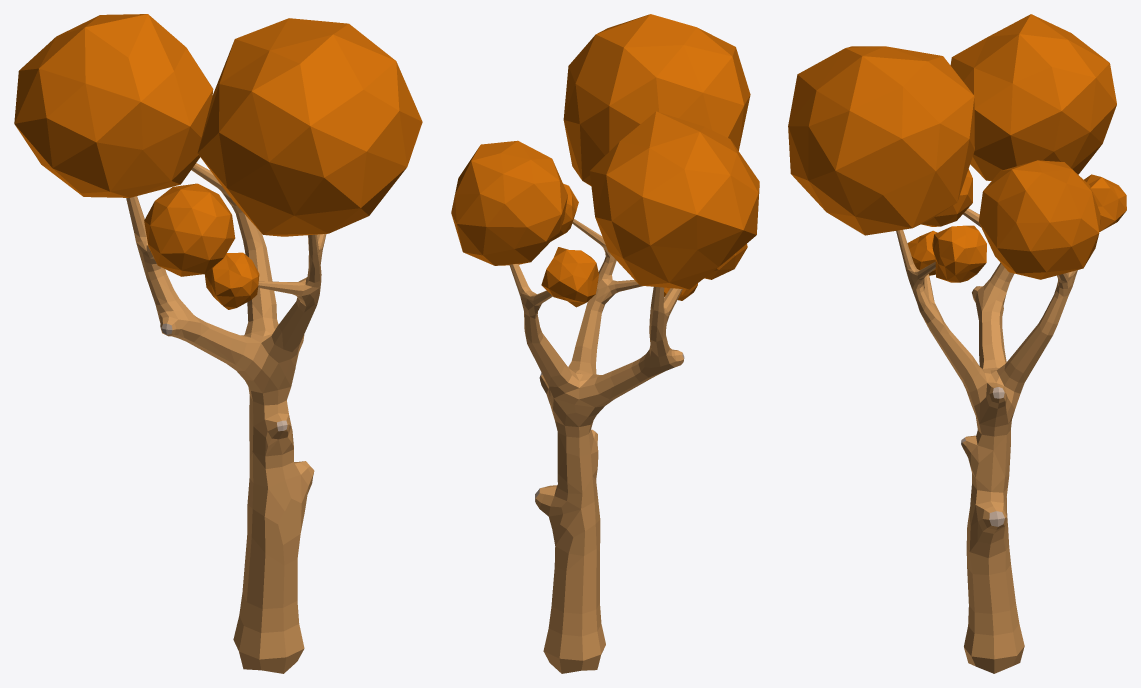
The model's file is Tree01.fbx.
3 views of the same model, side by side, from view 1: azimuth 30°, elevation 25°; view 2: azimuth 150°, elevation 25°; view 3: azimuth 270°, elevation 25° (orthographic). The views are drawn at different scales.
Visible parts, largest first — view 1: Plane; view 2: Plane; view 3: Plane.
Boxes of the visible parts, x1,y1,x2,y2 form: Plane: (14, 14, 422, 673); Plane: (451, 14, 759, 673); Plane: (788, 14, 1126, 673).
Size of the model in its own units: 343 by 687 by 347.
